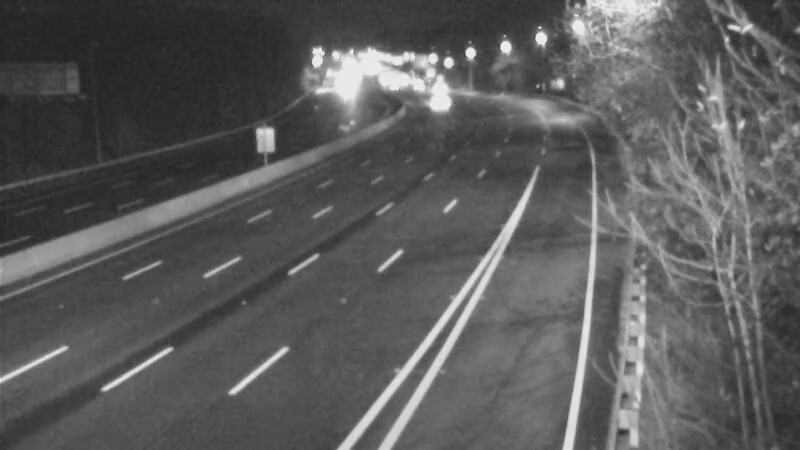vehicle: (411, 63, 461, 113), (411, 80, 461, 130)
